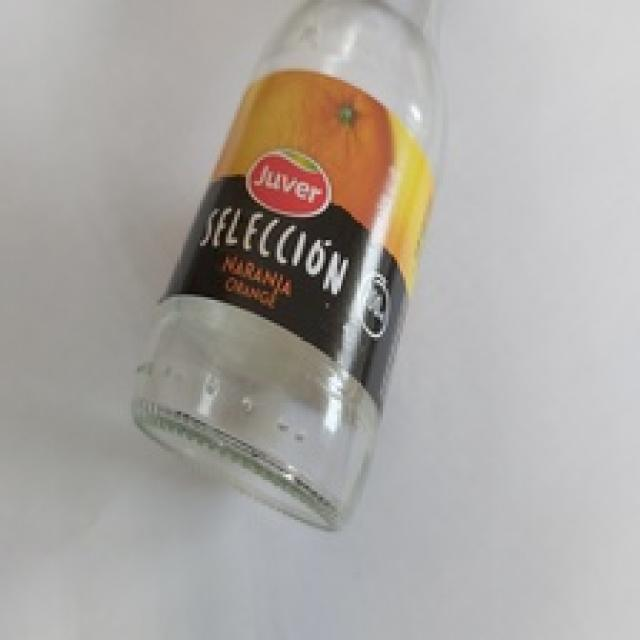garbage: (156, 11, 446, 566)
